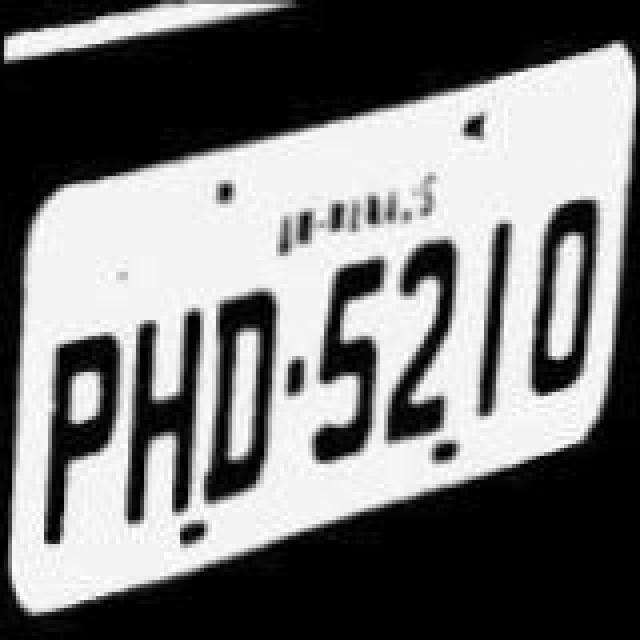1: (468, 196, 512, 440)
2: (382, 220, 462, 444)
5: (316, 242, 392, 466)
D: (204, 264, 284, 504)
H: (124, 272, 204, 516)
O: (524, 180, 608, 396)
P: (42, 290, 126, 550)
